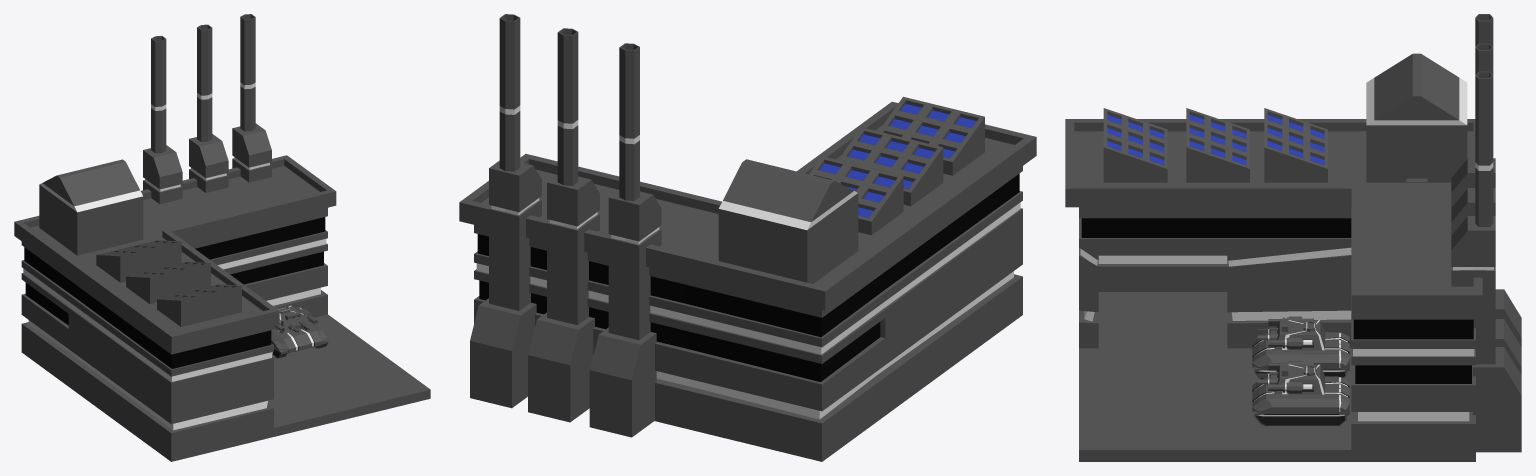
The model's file is AutoGunTankFactory.fbx.
3 views of the same model, side by side, from view 1: azimuth 30°, elevation 25°; view 2: azimuth 150°, elevation 25°; view 3: azimuth 270°, elevation 25° (orthographic). The views are drawn at different scales.
Parts seen in each view (by area): view 1: AutoGunTanksFactory; view 2: AutoGunTanksFactory; view 3: AutoGunTanksFactory.
Part boxes in pixels (x1,y1,x2,y2): AutoGunTanksFactory: (14, 14, 430, 461); AutoGunTanksFactory: (459, 14, 1036, 461); AutoGunTanksFactory: (1065, 14, 1521, 461).
Bounding box in the file's own units: 11.86 × 11.52 × 12.97.
